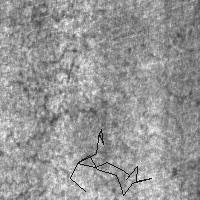crazing: (4, 1, 105, 149), (70, 129, 151, 195), (1, 151, 72, 199)
